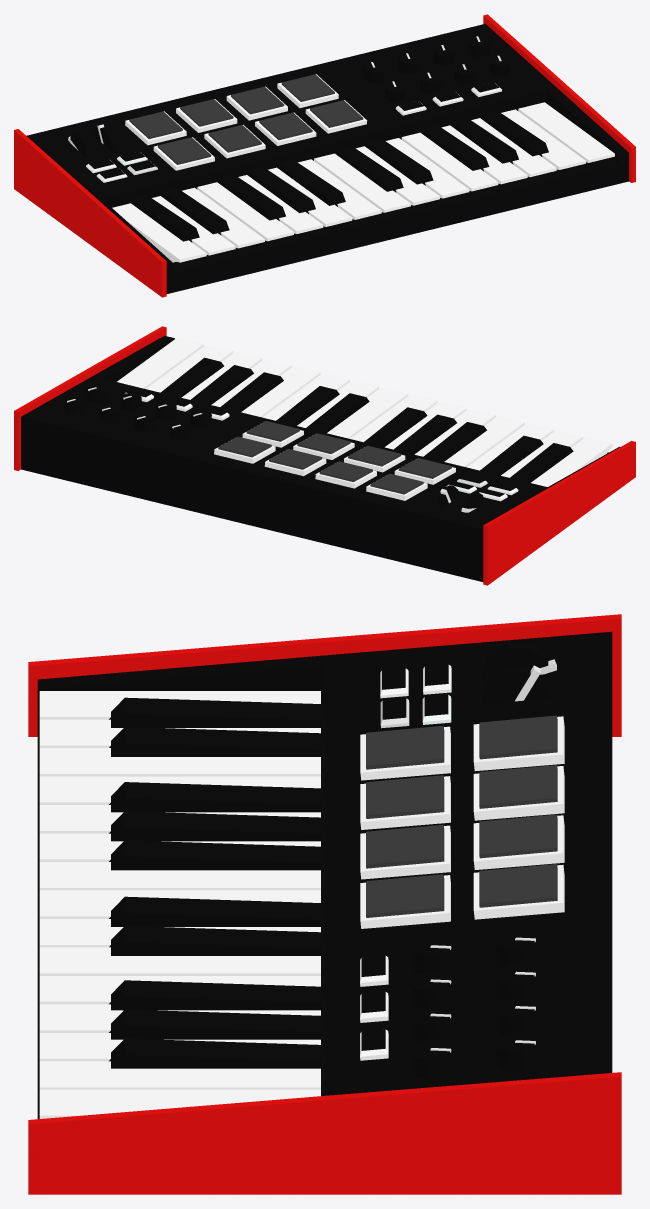
File: akai_mpk_mini_midi_controller.glb
The picture shows the model from 3 angles, top to bottom: view 1: azimuth 30°, elevation 25°; view 2: azimuth 150°, elevation 25°; view 3: azimuth 270°, elevation 25°; orthographic projection. The views are drawn at different scales.
Visible parts, largest first — view 1: Object_8, Object_4, Object_9; view 2: Object_8, Object_4, Object_9; view 3: Object_8, Object_4, Object_9.
Part boxes in pixels (x1,y1,x2,y2): Object_8: (14, 14, 635, 297); Object_4: (69, 36, 614, 262); Object_9: (86, 74, 501, 182); Object_8: (14, 326, 635, 585); Object_4: (64, 337, 612, 513); Object_9: (124, 392, 518, 501); Object_8: (28, 614, 621, 1194); Object_4: (39, 643, 552, 1118); Object_9: (360, 665, 564, 1060).
Size of the model in its own units: 11.65 by 1.51 by 6.31.
Materials: 3 (3 with a texture image).
